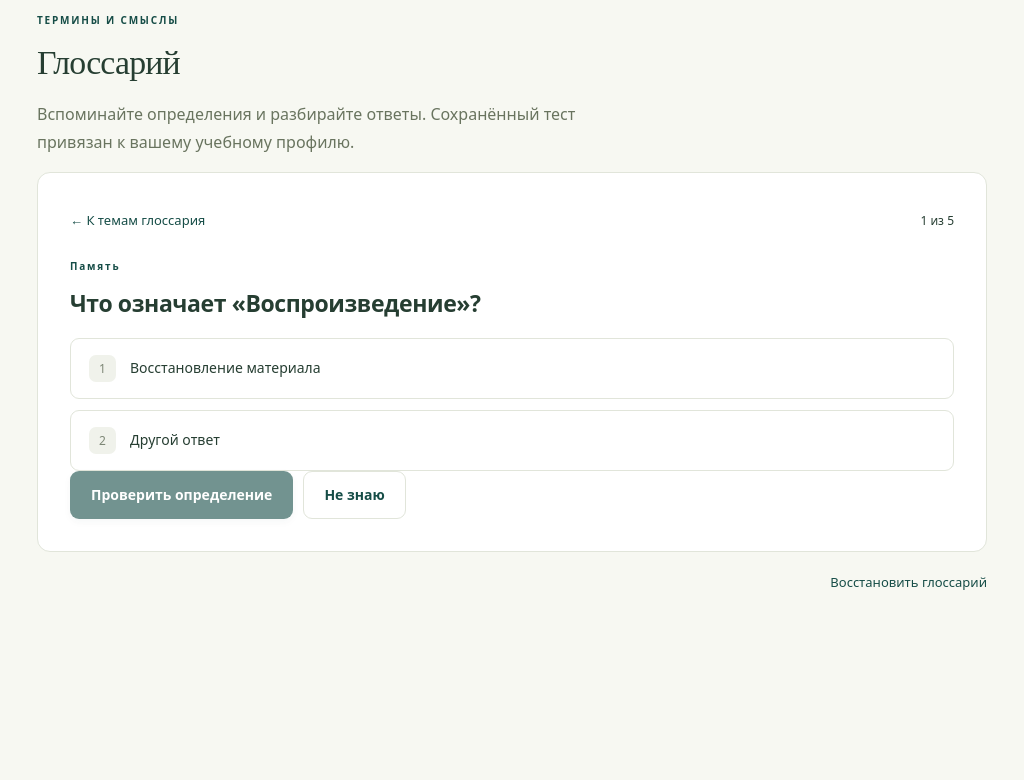
Test: locks a lost answer to the original choice and resumes persisted feedback
Click the radio button labelled "1 Восстановление материала" at [225, 367], box [70, 338, 954, 399]
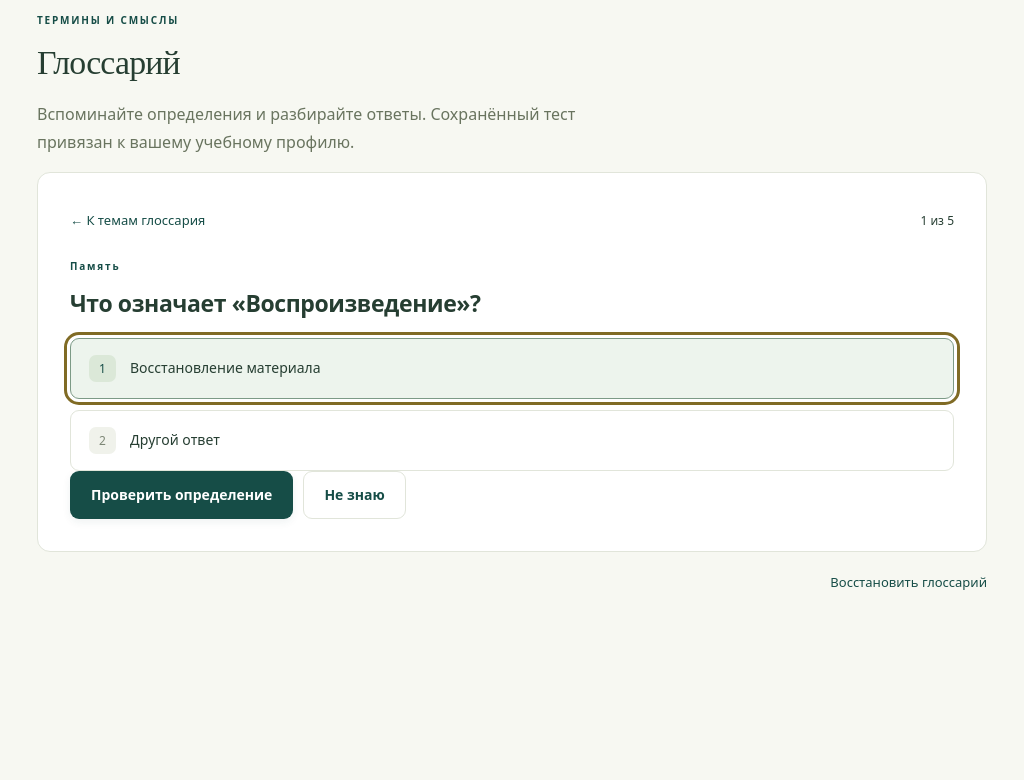
Click the button "Проверить определение" at [182, 495], box [70, 471, 293, 519]
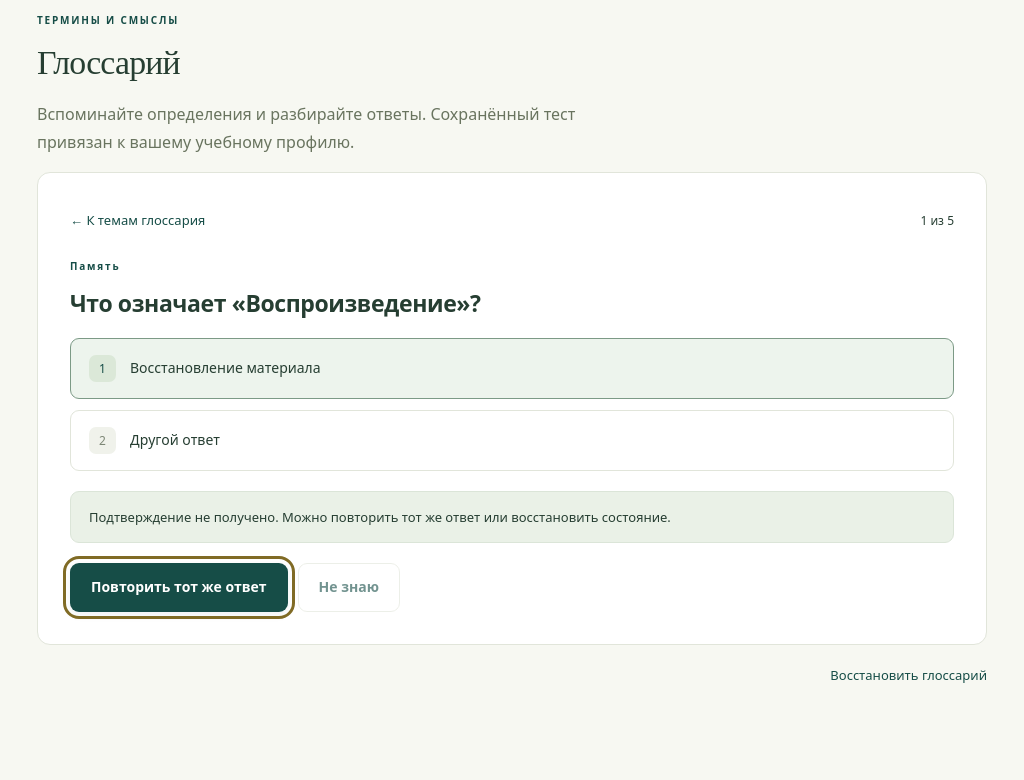
Expected: the radio button labelled "2 Другой ответ" is disabled, [70, 410, 954, 471]
Click the button "Повторить тот же ответ" at [179, 588], box [70, 563, 288, 612]
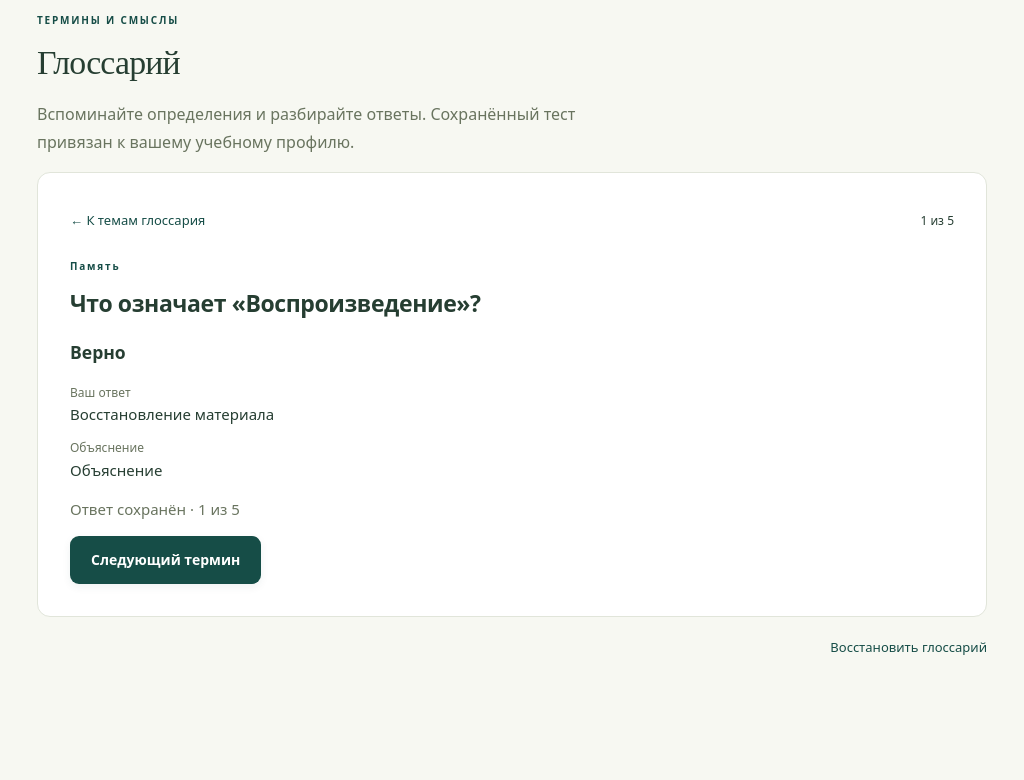
Now the text "Ответ сохранён · 1 из 5" is shown, box [70, 499, 240, 519]
